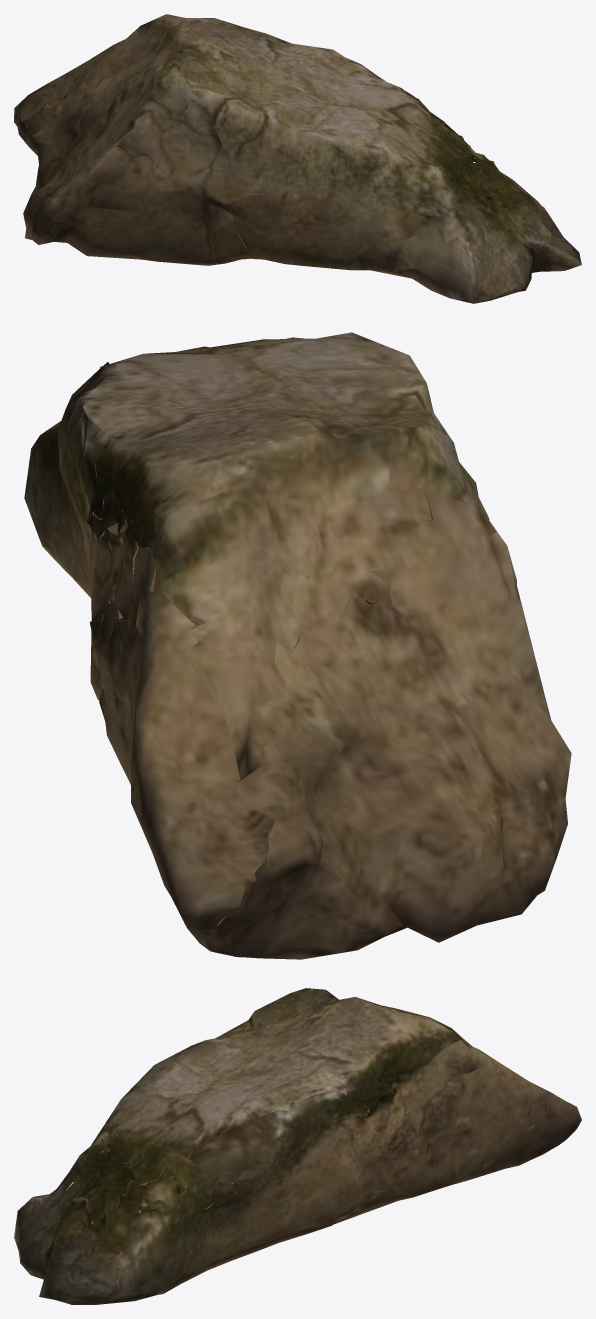
Rendered from rock_moss_set_01_2.glb.
3 views of the same model, one above another, from view 1: azimuth 30°, elevation 25°; view 2: azimuth 150°, elevation 25°; view 3: azimuth 270°, elevation 25° (orthographic). The views are drawn at different scales.
Visible parts, largest first — view 1: rock_moss_set_01_rock02; view 2: rock_moss_set_01_rock02; view 3: rock_moss_set_01_rock02.
Part boxes in pixels (box(x1,y1,x2,y2)): rock_moss_set_01_rock02: box(14, 14, 581, 303); rock_moss_set_01_rock02: box(24, 332, 571, 959); rock_moss_set_01_rock02: box(14, 988, 581, 1304).
Bounding box in the file's own units: 2.65 × 1.26 × 3.26.
Materials: 1 (1 with a texture image).
